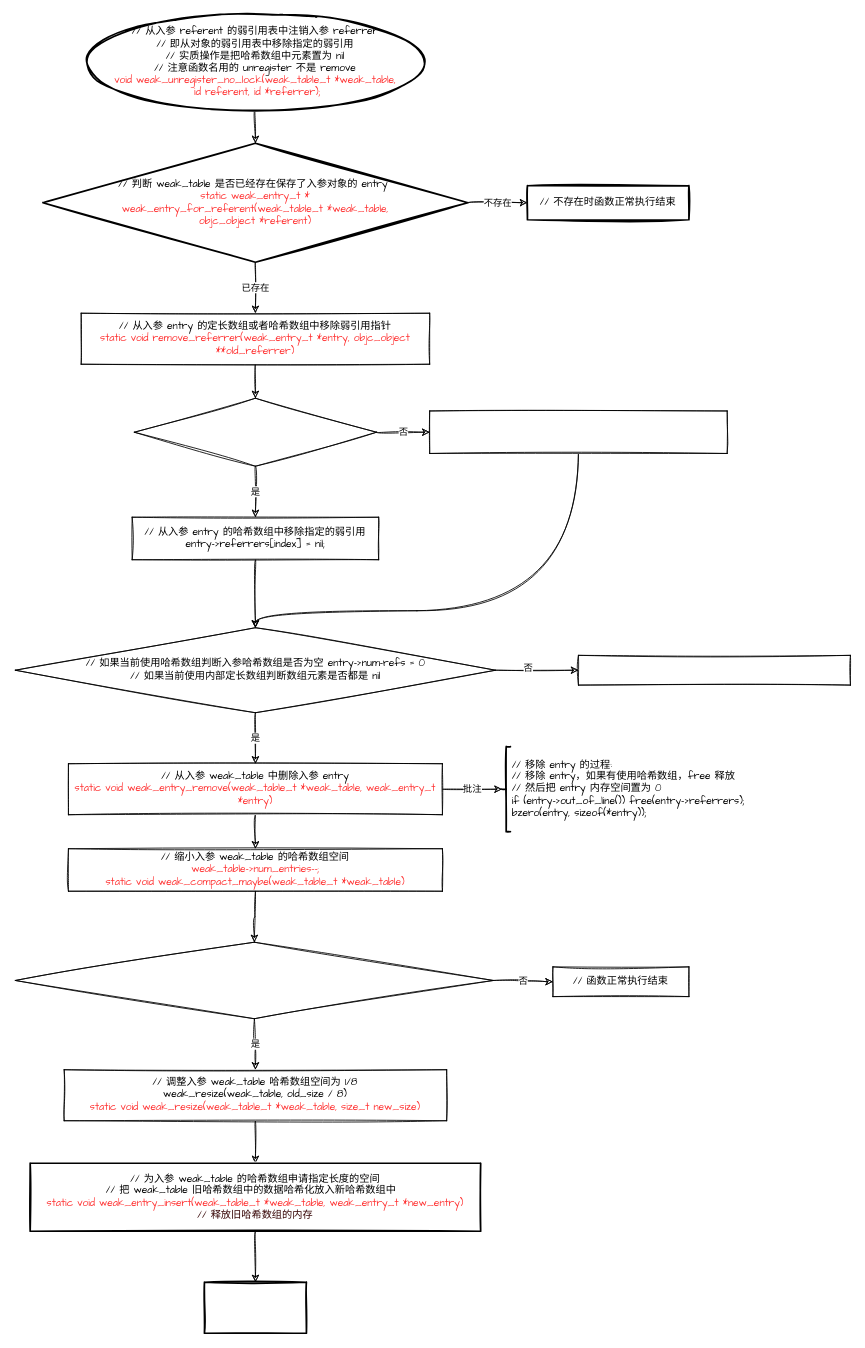
The diagram is 865 pixels wide and 1348 high, and some of its shapes have lost their labels. The centre of each missing label's shape, as x and y in pixels:
// 从入参 entry 的内部定长 为 4 的数组移除指定的弱引用 entry->inline_referrers[i] = nil;: point 578,431
// 入参 entry 是否使用哈希数组 entry->out_of_line(): point 255,431
// 即此时不需要把 入参 entry 移除，函数正常执行结束: point 714,669
// 是否符合缩小条件 old_size >= 1024 && old_size / 16 >= weak_table->num_entries: point 253,980
函数正常执行结束: point 255,1307
